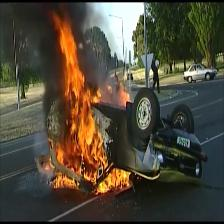fire: (39, 7, 149, 200)
smoke: (0, 4, 67, 103), (76, 5, 133, 103)
